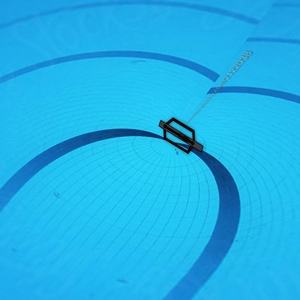submarine: (158, 117, 205, 156)
